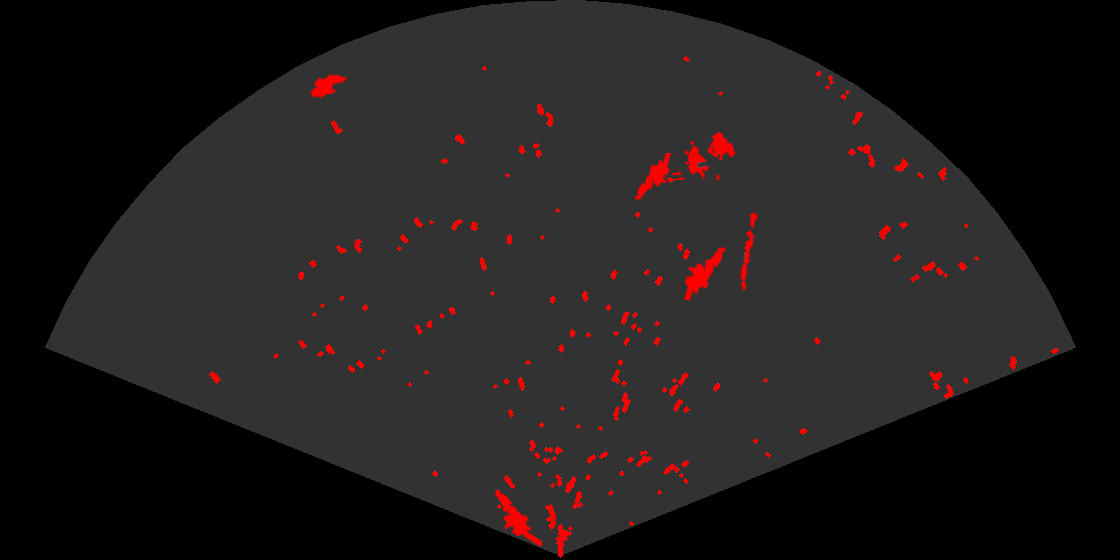AUV: (308, 72, 349, 100)
cage: (672, 130, 738, 180)
chain: (739, 209, 759, 292)
frogman: (493, 488, 542, 546), (682, 244, 727, 300), (633, 153, 673, 203)
